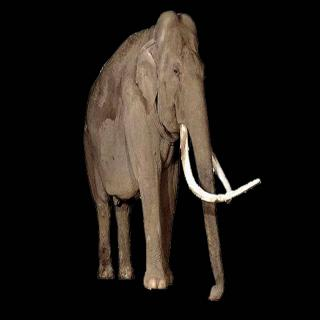Elephant: (82, 7, 270, 307)
